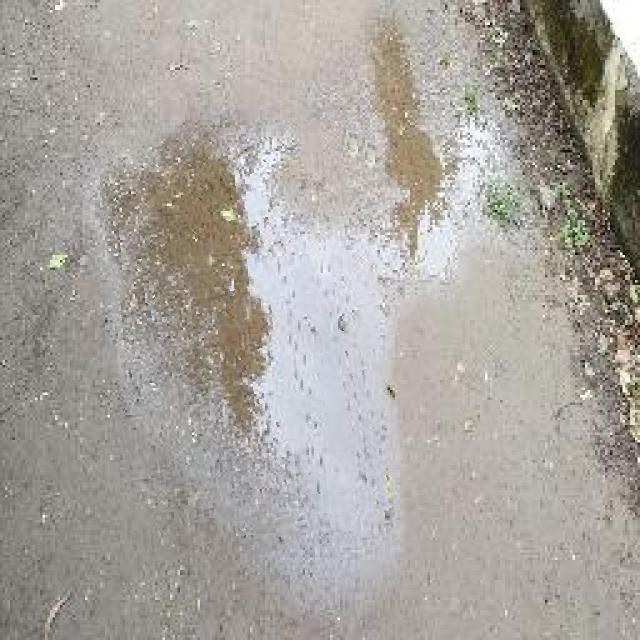puddle: (108, 123, 390, 559)
